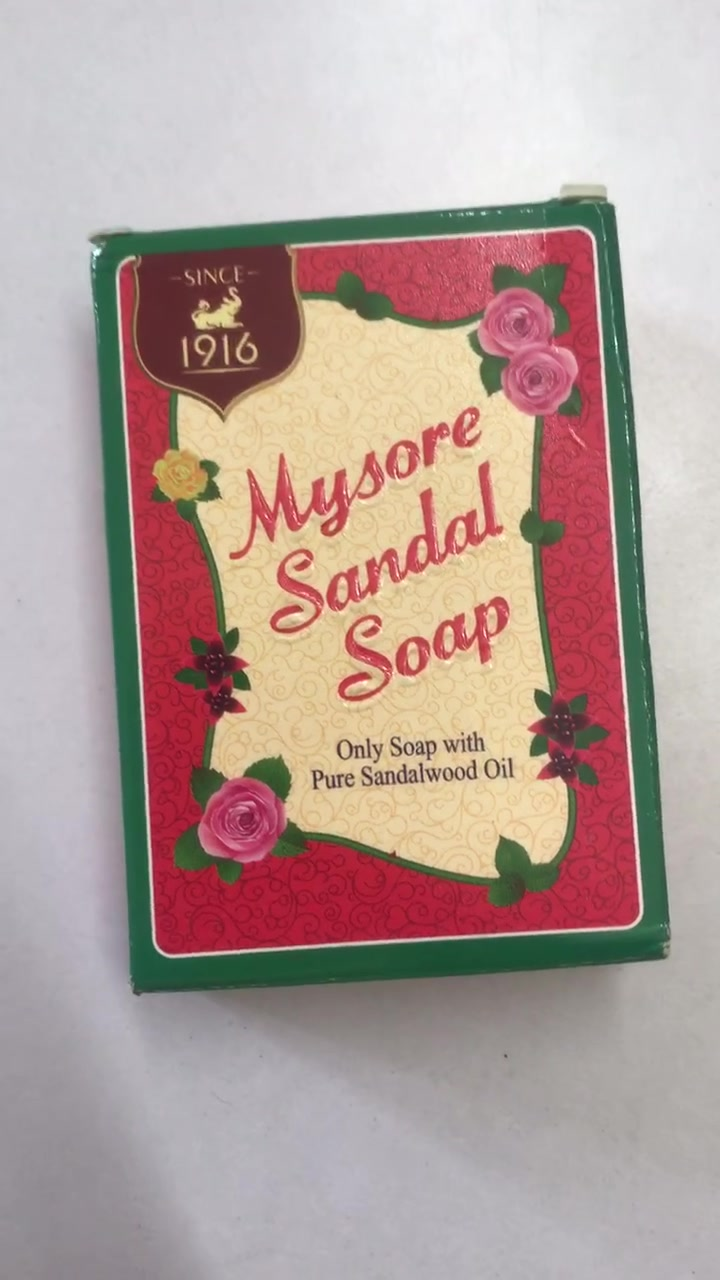mysore sandal soap: (101, 210, 680, 992)
